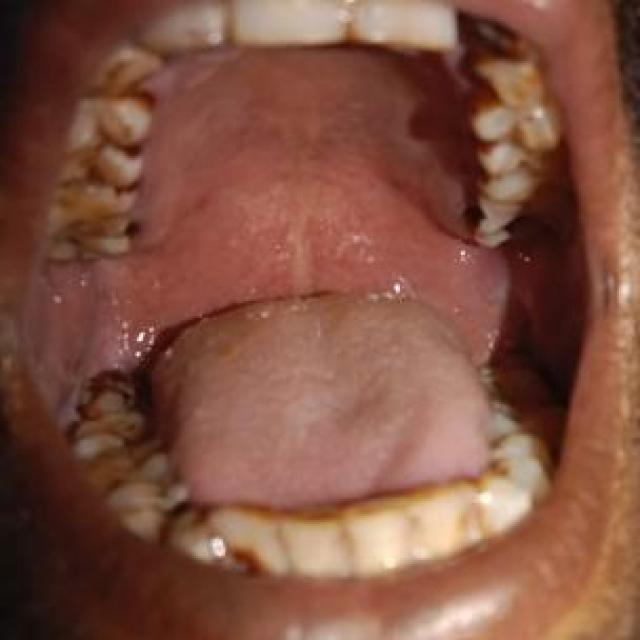processing_area: (19, 46, 512, 509)
